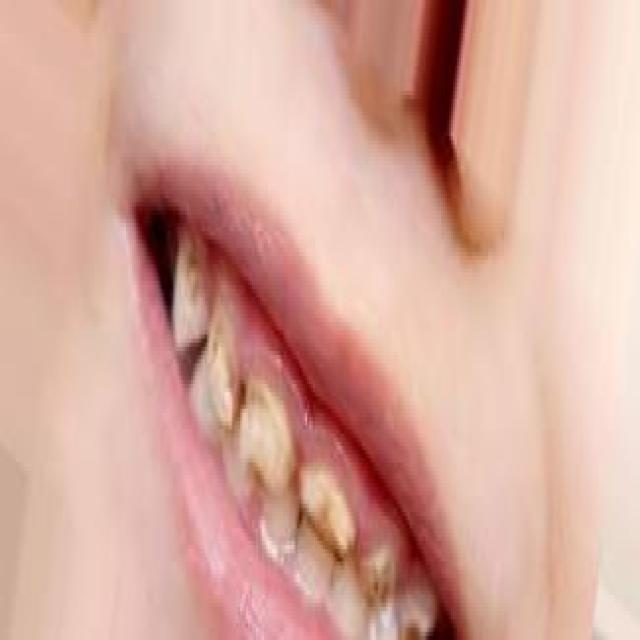caries: (295, 454, 361, 562), (240, 376, 296, 497), (202, 318, 242, 430), (358, 534, 407, 612), (178, 228, 216, 308)
